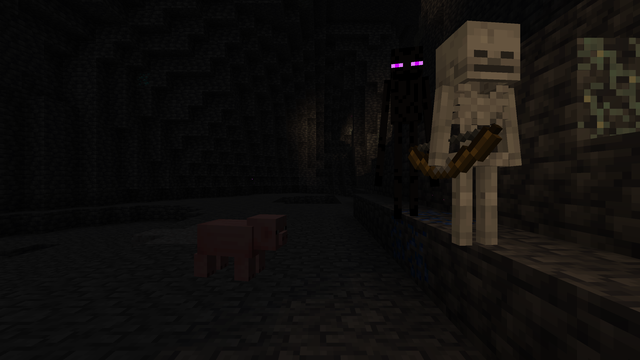cochons: (196, 217, 265, 282)
endermens: (384, 40, 429, 217)
squelettes: (430, 19, 530, 251)
